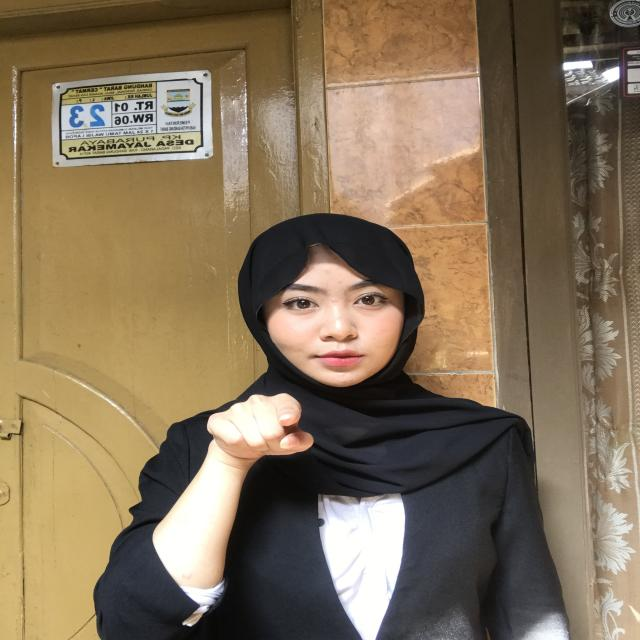kamu: (158, 375, 372, 514)
